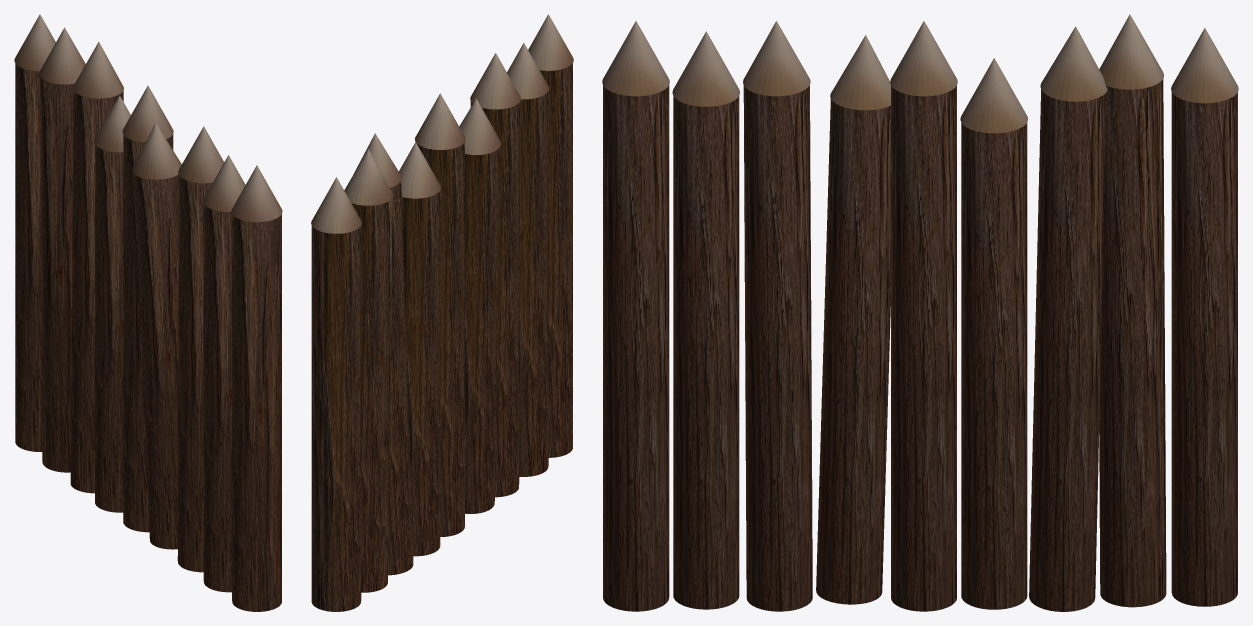
File: LogWall.glb
3 views of the same model, side by side, from view 1: azimuth 30°, elevation 25°; view 2: azimuth 150°, elevation 25°; view 3: azimuth 270°, elevation 25° (orthographic). The views are drawn at different scales.
Visible parts, largest first — view 1: Cylinder.006, Cylinder.005, Cylinder.003, Cylinder.007, Cylinder.004, Cylinder.000, Cylinder.008, Cylinder.002, Cylinder.001; view 2: Cylinder.008, Cylinder.000, Cylinder.005, Cylinder.003, Cylinder.007, Cylinder.001, Cylinder.006, Cylinder.004, Cylinder.002; view 3: Cylinder.006, Cylinder.004, Cylinder.002, Cylinder.001, Cylinder.008, Cylinder.007, Cylinder.003, Cylinder.005, Cylinder.000.
Boxes of the visible parts, x1,y1,x2,y2 form: Cylinder.006: (231, 165, 282, 611); Cylinder.005: (132, 123, 181, 549); Cylinder.003: (39, 27, 85, 472); Cylinder.007: (203, 155, 245, 592); Cylinder.004: (177, 126, 224, 572); Cylinder.000: (94, 95, 130, 512); Cylinder.008: (14, 14, 55, 451); Cylinder.002: (70, 41, 123, 493); Cylinder.001: (122, 85, 173, 532); Cylinder.008: (311, 177, 361, 611); Cylinder.000: (399, 142, 440, 556); Cylinder.005: (459, 98, 500, 513); Cylinder.003: (344, 149, 393, 592); Cylinder.007: (507, 43, 549, 476); Cylinder.001: (415, 93, 465, 536); Cylinder.006: (528, 14, 573, 457); Cylinder.004: (470, 53, 520, 497); Cylinder.002: (354, 133, 413, 575); Cylinder.006: (602, 21, 669, 611); Cylinder.004: (743, 21, 812, 611); Cylinder.002: (1029, 26, 1107, 611); Cylinder.001: (890, 21, 957, 611); Cylinder.008: (1171, 28, 1238, 606); Cylinder.007: (672, 31, 739, 609); Cylinder.003: (1099, 14, 1166, 607); Cylinder.005: (816, 35, 890, 604); Cylinder.000: (960, 58, 1027, 609).
Size of the model in its own units: 1.21 by 7.9 by 7.84.
Materials: 2 (2 with a texture image).
